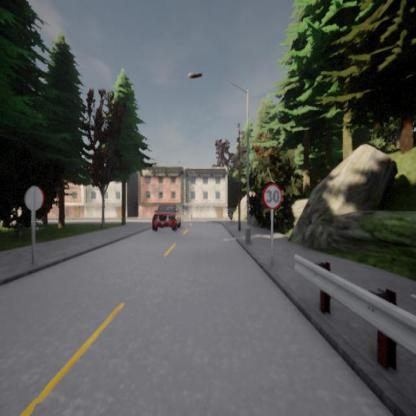traffic_sign_30: (263, 184, 282, 209)
vehicle: (152, 204, 179, 232)
